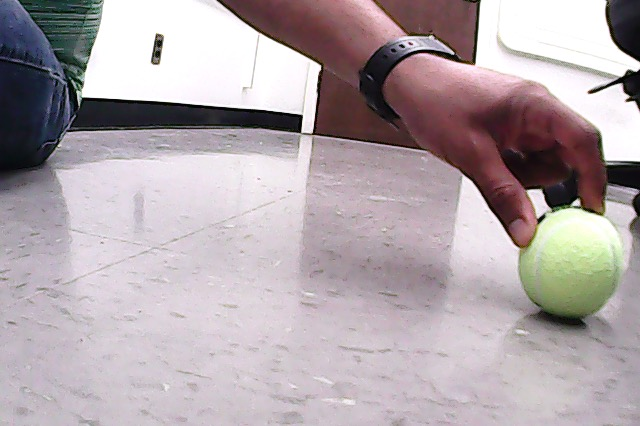ball: (515, 205, 626, 321)
